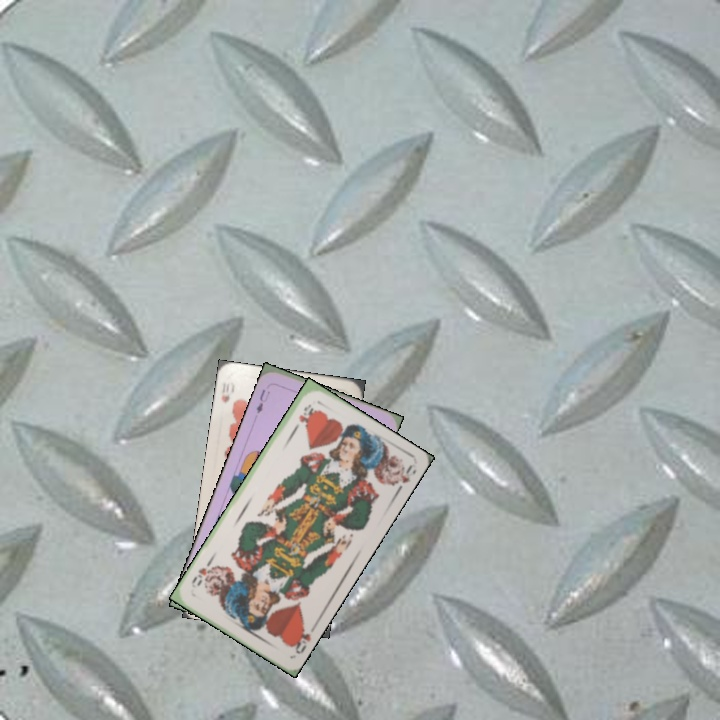EU: (252, 385, 273, 416)
H10: (217, 378, 237, 405)
HO: (286, 619, 313, 657), (289, 400, 316, 435)
